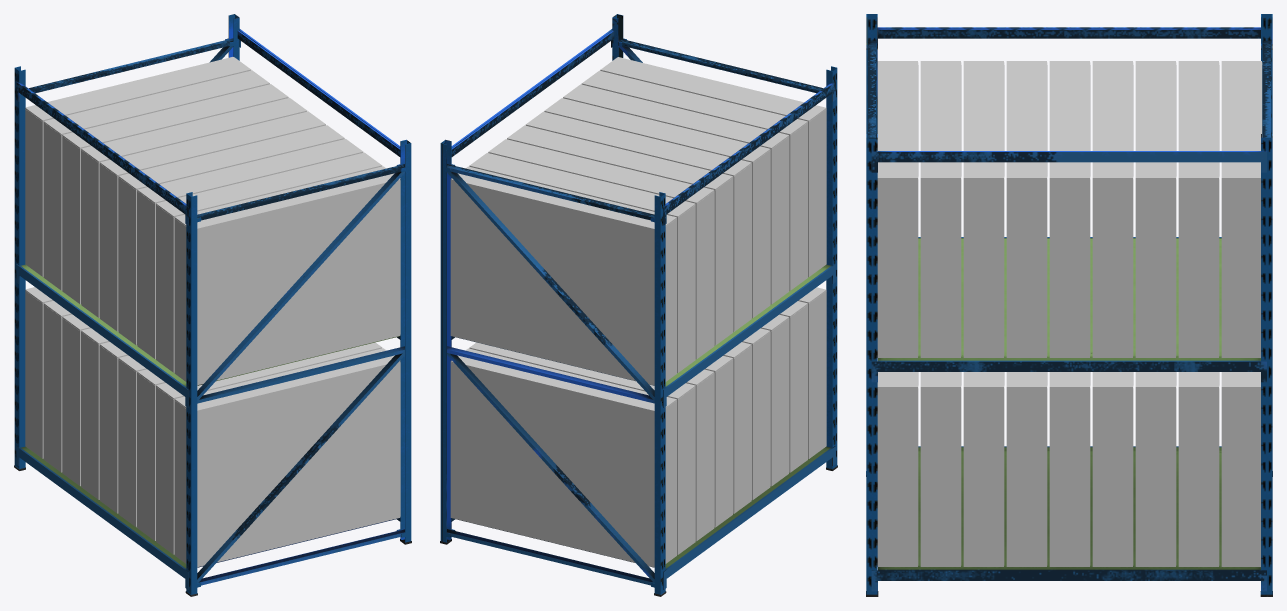
Rendered from rack con cajas.FBX.
The picture shows the model from 3 angles, left to right: view 1: azimuth 30°, elevation 25°; view 2: azimuth 150°, elevation 25°; view 3: azimuth 270°, elevation 25°; orthographic projection. The views are drawn at different scales.
Parts seen in each view (by area): view 1: caja_014, caja_, Patas, Intersecciones, Soportes, caja_016, caja_009, caja_015, caja_017, caja_011, caja_010, caja_012 (+25 smaller); view 2: caja_010, caja_008, Patas, Intersecciones, Soportes, caja_009, caja_013, caja_014, caja_011, caja_012, caja_017, caja_015 (+25 smaller); view 3: Intersecciones, Patas, bases, tapa1, tapa003, tapa005, tapa007, tapa009, tapa011, tapa013, tapa015, tapa035 (+28 smaller).
Part boxes in pixels (bbox=[...]): caja_014: bbox=[174, 166, 400, 385]; caja_: bbox=[174, 348, 400, 567]; Patas: bbox=[14, 14, 411, 594]; Intersecciones: bbox=[16, 29, 400, 589]; Soportes: bbox=[29, 38, 404, 585]; caja_016: bbox=[43, 70, 269, 290]; caja_009: bbox=[81, 97, 307, 317]; caja_015: bbox=[62, 84, 288, 304]; caja_017: bbox=[100, 111, 325, 331]; caja_011: bbox=[118, 125, 344, 345]; caja_010: bbox=[25, 57, 251, 276]; caja_012: bbox=[137, 139, 363, 358]; caja_010: bbox=[450, 166, 676, 385]; caja_008: bbox=[450, 348, 676, 567]; Patas: bbox=[440, 14, 837, 594]; Intersecciones: bbox=[451, 29, 835, 589]; Soportes: bbox=[447, 38, 823, 585]; caja_009: bbox=[507, 125, 732, 345]; caja_013: bbox=[581, 70, 807, 290]; caja_014: bbox=[600, 57, 826, 276]; caja_011: bbox=[544, 98, 770, 318]; caja_012: bbox=[563, 84, 788, 304]; caja_017: bbox=[525, 111, 751, 331]; caja_015: bbox=[488, 139, 714, 359]; Intersecciones: bbox=[871, 27, 1266, 591]; Patas: bbox=[866, 14, 1272, 594]; bases: bbox=[878, 238, 1260, 569]; tapa1: bbox=[877, 386, 918, 565]; tapa003: bbox=[920, 386, 961, 565]; tapa005: bbox=[963, 386, 1004, 565]; tapa007: bbox=[1006, 386, 1047, 565]; tapa009: bbox=[1049, 386, 1090, 565]; tapa011: bbox=[1092, 386, 1133, 565]; tapa013: bbox=[1135, 386, 1176, 565]; tapa015: bbox=[1178, 386, 1219, 565]; tapa035: bbox=[1178, 177, 1219, 356].
Size of the model in its own units: 71.25 by 123 by 98.43.
Materials: 2 (1 with a texture image).
